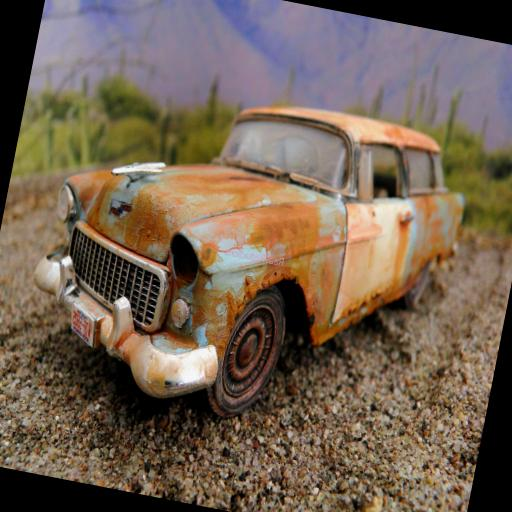segmentation: (33, 107, 464, 417)
